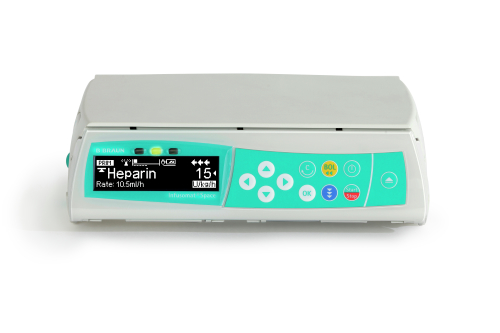BBraun Infusomat Space: (62, 70, 436, 230)
